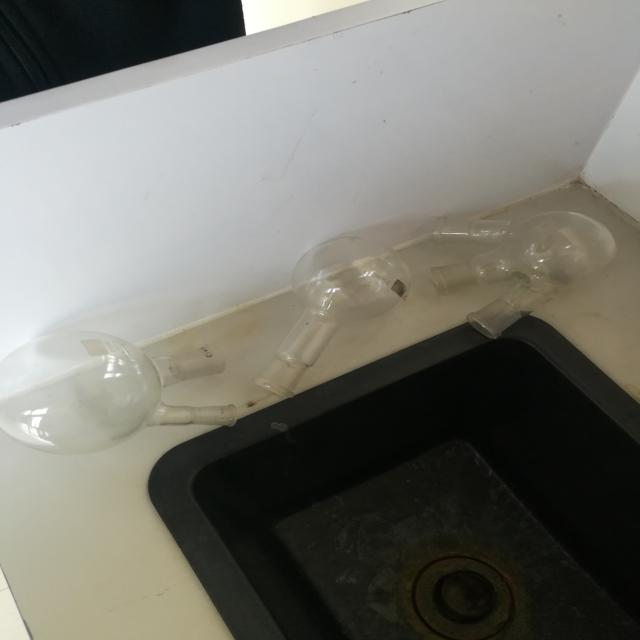Round_Bottom_Flask_Borosilicate_Glass_1_Neck: (244, 191, 434, 421)
Round_Bottom_Flask_Borosilicate_Glass_2_Neck: (0, 302, 256, 490)
Round_Bottom_Flask_Borosilicate_Glass_3_Neck: (413, 170, 640, 370)
